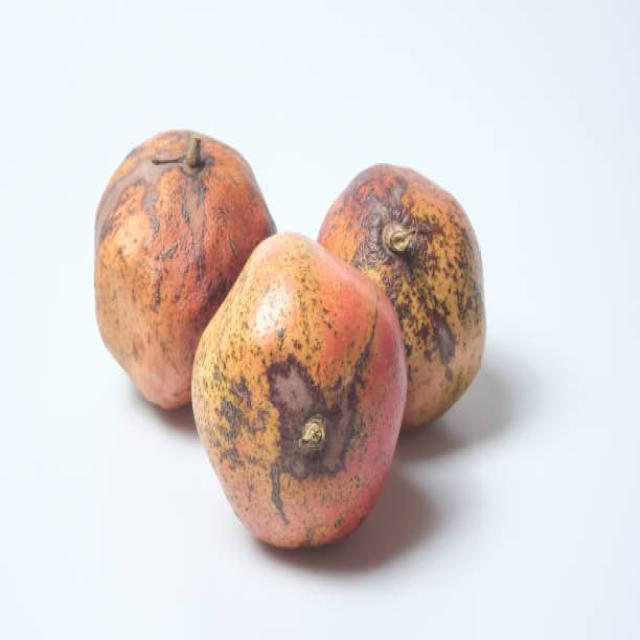overripe: (192, 232, 411, 552), (90, 125, 276, 415), (318, 162, 490, 429)
